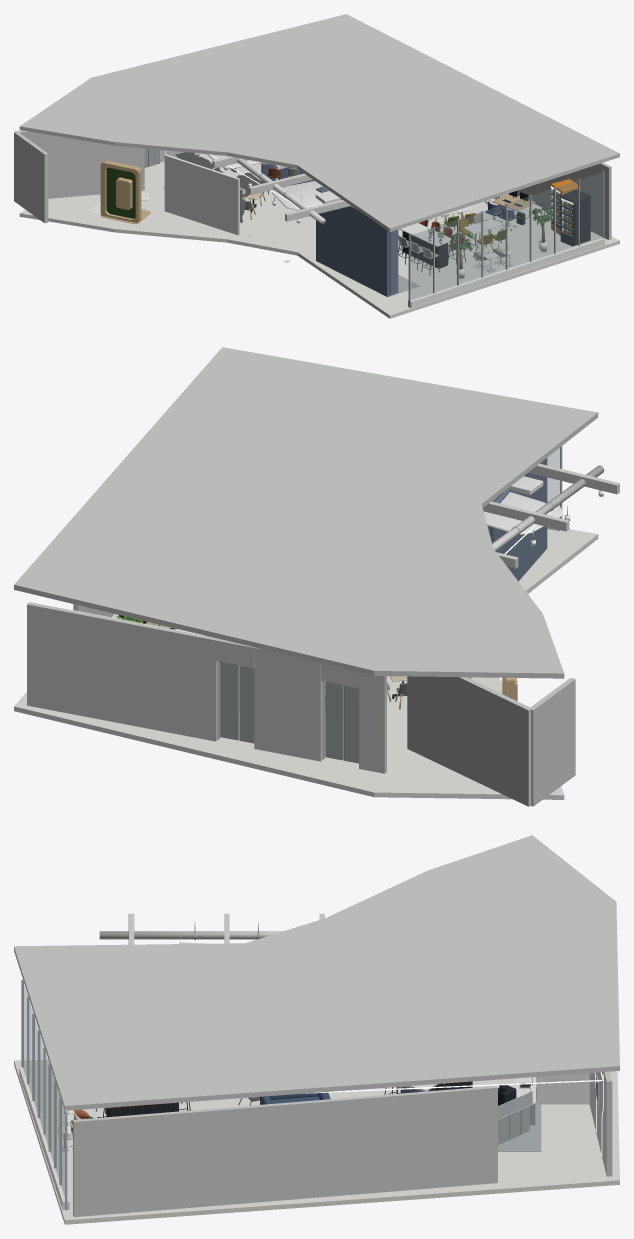
3 renders of one model, top to bottom at view 1: azimuth 30°, elevation 25°; view 2: azimuth 150°, elevation 25°; view 3: azimuth 270°, elevation 25°, orthographic. The views are drawn at different scales.
Visible parts, largest first — view 1: Surface 331, Surface 330, Surface 335, Surface 332, Surface 255, Surface 319, Surface 198, Surface 337, Surface 235, Surface 336, Surface 112, Surface 236 (+4 smaller); view 2: Surface 331, Surface 205, Surface 332, Surface 330, Surface 198, Surface 255, Surface 210, Surface 216, Surface 213, Surface 174, Surface 207; view 3: Surface 331, Surface 332, Surface 330, Surface 335, Surface 336, Surface 198, Surface 205, Surface 333, Surface 337, Surface 334, Surface 317, Surface 268 (+1 smaller).
Boxes of the visible parts, x1,y1,x2,y2 form: Surface 331: [19, 14, 619, 231]; Surface 330: [19, 153, 619, 318]; Surface 335: [411, 172, 602, 300]; Surface 332: [14, 130, 611, 239]; Surface 255: [316, 186, 398, 296]; Surface 319: [164, 154, 239, 235]; Surface 198: [212, 156, 350, 224]; Surface 337: [408, 237, 604, 308]; Surface 235: [100, 160, 141, 222]; Surface 336: [408, 171, 604, 307]; Surface 112: [560, 189, 590, 246]; Surface 236: [106, 167, 135, 218]; Surface 331: [14, 347, 598, 678]; Surface 205: [27, 602, 386, 773]; Surface 332: [73, 604, 575, 806]; Surface 330: [14, 529, 598, 799]; Surface 198: [483, 463, 619, 568]; Surface 255: [487, 458, 547, 581]; Surface 210: [325, 682, 343, 760]; Surface 216: [220, 662, 238, 740]; Surface 213: [239, 665, 254, 743]; Surface 174: [483, 492, 562, 534]; Surface 207: [344, 685, 358, 763]; Surface 331: [14, 835, 619, 1110]; Surface 332: [73, 1086, 497, 1217]; Surface 330: [14, 1060, 619, 1224]; Surface 335: [23, 982, 65, 1196]; Surface 336: [21, 979, 67, 1210]; Surface 198: [99, 913, 324, 944]; Surface 205: [589, 1071, 612, 1176]; Surface 333: [535, 1073, 589, 1104]; Surface 337: [19, 1067, 69, 1210]; Surface 334: [498, 1104, 541, 1151]; Surface 317: [105, 1102, 178, 1117]; Surface 268: [260, 1092, 329, 1104].
Bounding box in the file's own units: 18.3 × 3.74 × 17.3.
